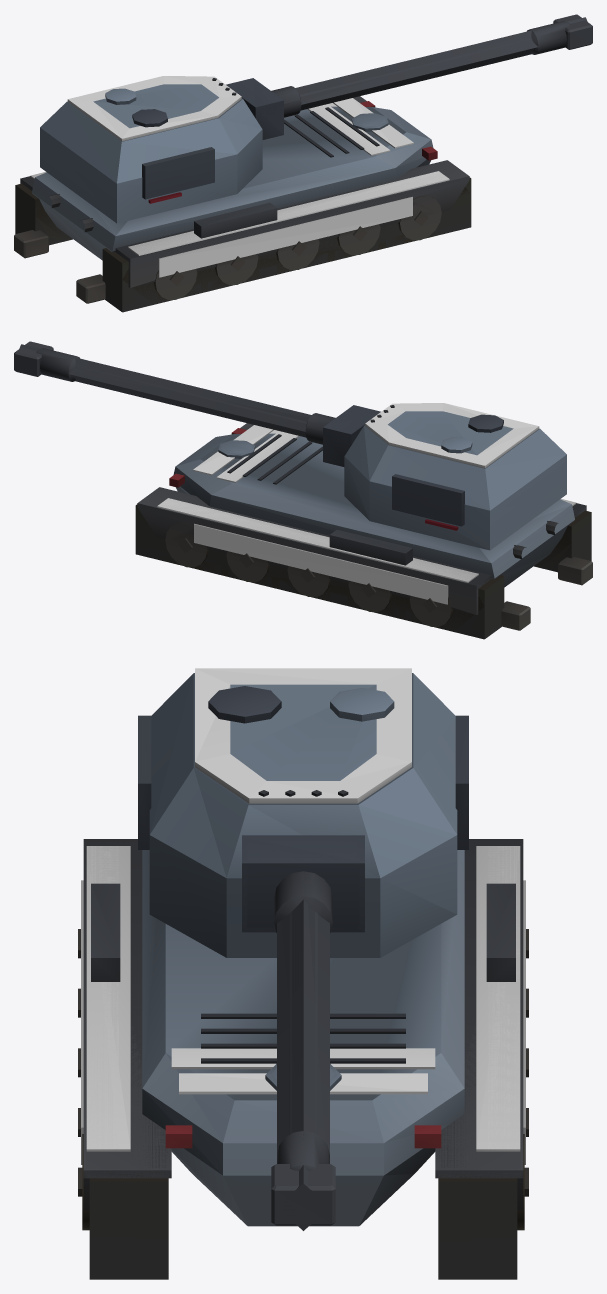
The model's file is veyran_siege_artillery.glb.
3 renders of one model, top to bottom at view 1: azimuth 30°, elevation 25°; view 2: azimuth 150°, elevation 25°; view 3: azimuth 270°, elevation 25°, orthographic. The views are drawn at different scales.
Parts seen in each view (by area): view 1: hull (×3), turret (×2), barrel (×2); view 2: hull (×3), turret (×2), barrel (×2); view 3: hull (×3), turret (×2), barrel (×2).
Boxes of the visible parts, left/top/right/bottom form: hull (×3): left=14, top=96, right=471, bottom=312; turret (×2): left=40, top=76, right=283, bottom=223; barrel (×2): left=271, top=14, right=592, bottom=117; hull (×3): left=135, top=423, right=592, bottom=639; turret (×2): left=323, top=403, right=566, bottom=550; barrel (×2): left=14, top=341, right=335, bottom=444; hull (×3): left=78, top=839, right=528, bottom=1279; turret (×2): left=138, top=668, right=468, bottom=957; barrel (×2): left=271, top=871, right=335, bottom=1230.
Bounding box in the file's own units: 8.45 × 2.29 × 3.08.
